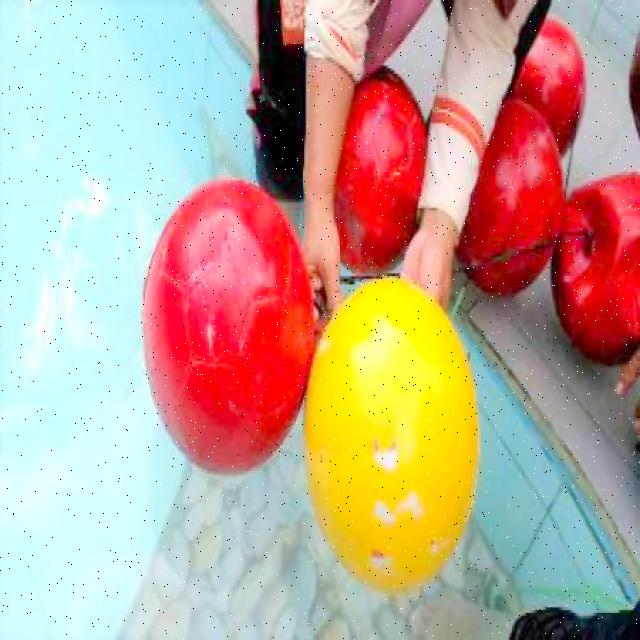buoy: (303, 276, 479, 594), (139, 175, 313, 476), (323, 62, 428, 276), (454, 95, 564, 299), (549, 171, 639, 365)
